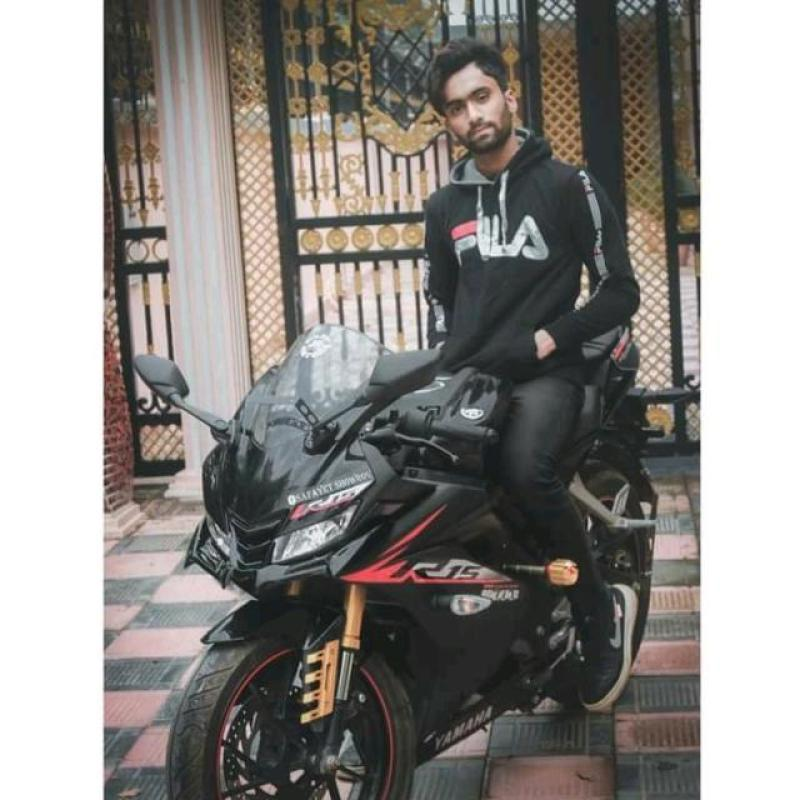nohelmet: (414, 36, 542, 178)
